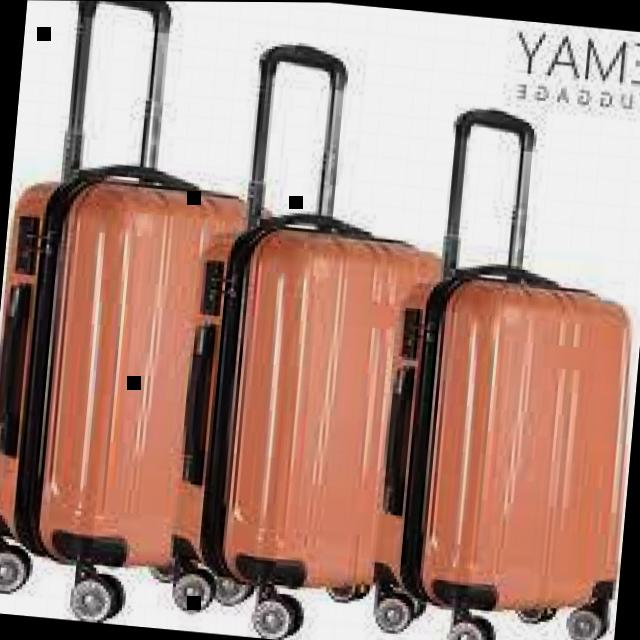luggage: (0, 148, 292, 585), (154, 196, 456, 600), (357, 246, 640, 620)
